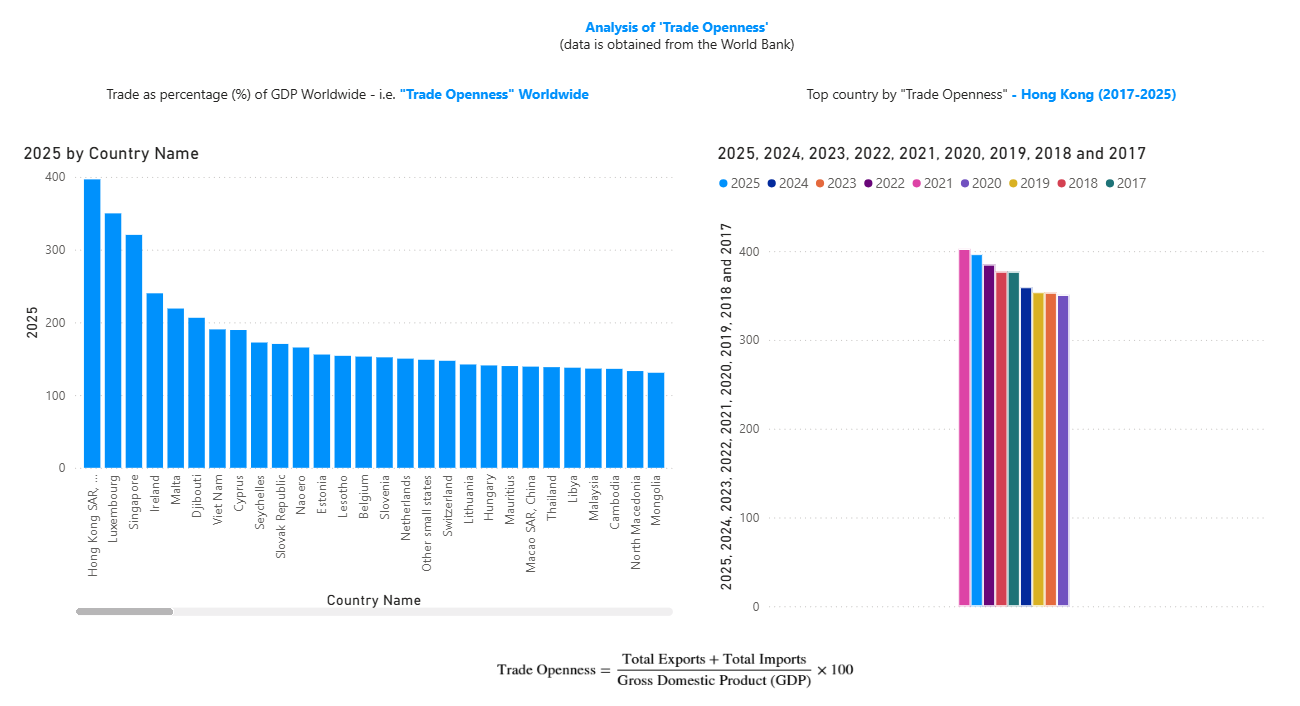

The dashboard page shown, as its layout file describes it:
{"tool":"powerbi","page":{"name":"Main analysis","canvas":[1280,720],"ordinal":0},"visuals":[{"type":"clusteredColumnChart","fields":{"Category":["Data.Country Name"],"Y":["Sum(Data.2025)"]},"box":[30.2,160.5,641.9,464.9],"z":0},{"type":"textbox","box":[107,98.2,487.3,33.1],"z":1000},{"type":"lineClusteredColumnComboChart","fields":{"Y":["Sum(Data.2025)","Sum(Data.2024)","Sum(Data.2023)","Sum(Data.2022)","Sum(Data.2021)","Sum(Data.2020)","Sum(Data.2019)","Sum(Data.2018)","Sum(Data.2017)"]},"box":[705.2,160.5,543.7,464.9],"z":2000},{"type":"textbox","box":[773.3,98.2,407.5,33.1],"z":3000},{"type":"image","box":[492.2,625.4,357.9,94.3],"z":4000},{"type":"textbox","box":[351.1,33.1,640,50.6],"z":4001}]}

Visuals, with their boxes on the page's 1280x720 design canvas (x1, y1, x2, y2). These are canvas units, not pixel positions in the 1300x706 screenshot, which may show the page scaled, cropped or inside an application window:
clusteredColumnChart - Data.Country Name x Sum(Data.2025): select_region(30, 160, 672, 625)
textbox: select_region(107, 98, 594, 131)
lineClusteredColumnComboChart - Sum(Data.2025) x Sum(Data.2024): select_region(705, 160, 1249, 625)
textbox: select_region(773, 98, 1181, 131)
image: select_region(492, 625, 850, 720)
textbox: select_region(351, 33, 991, 84)
